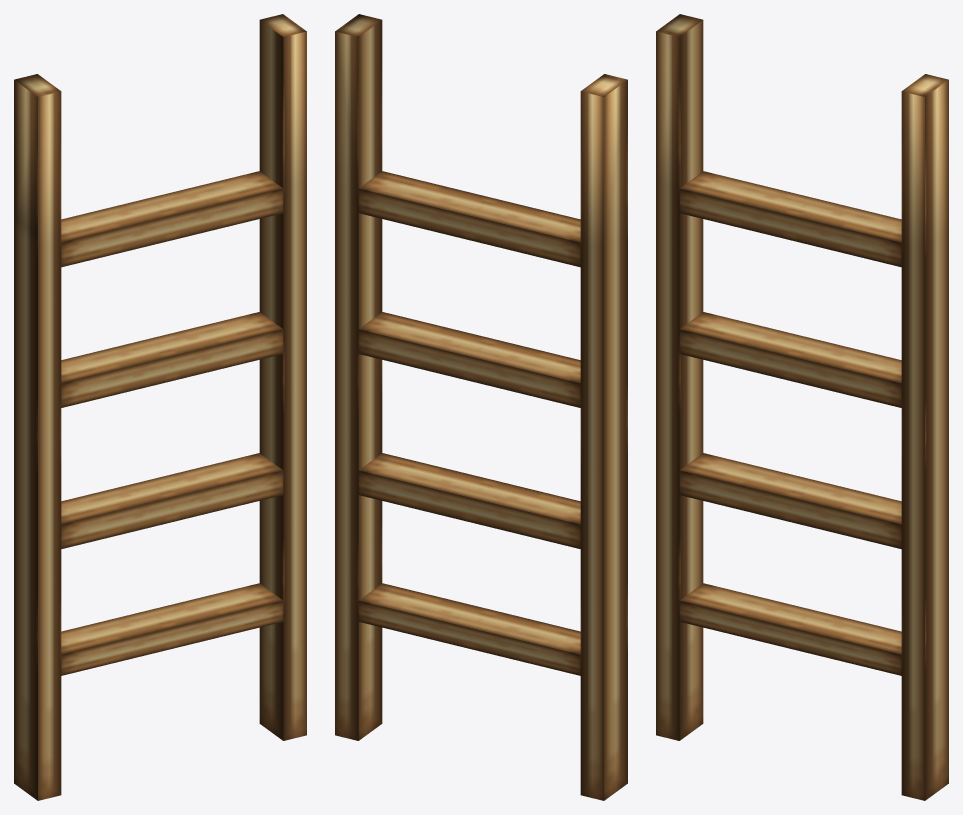
File: Inside_Poly_Ladder_02.obj
3 views of the same model, side by side, from view 1: azimuth 30°, elevation 25°; view 2: azimuth 150°, elevation 25°; view 3: azimuth 330°, elevation 25° (orthographic).
Parts seen in each view (by area): view 1: Cube.001; view 2: Cube.001; view 3: Cube.001.
Part boxes in pixels (x1,y1,x2,y2): Cube.001: [14, 14, 306, 800]; Cube.001: [335, 14, 627, 800]; Cube.001: [656, 14, 948, 800].
Bounding box in the file's own units: 0.8 × 2 × 0.123.
1 material, 1 textured.
